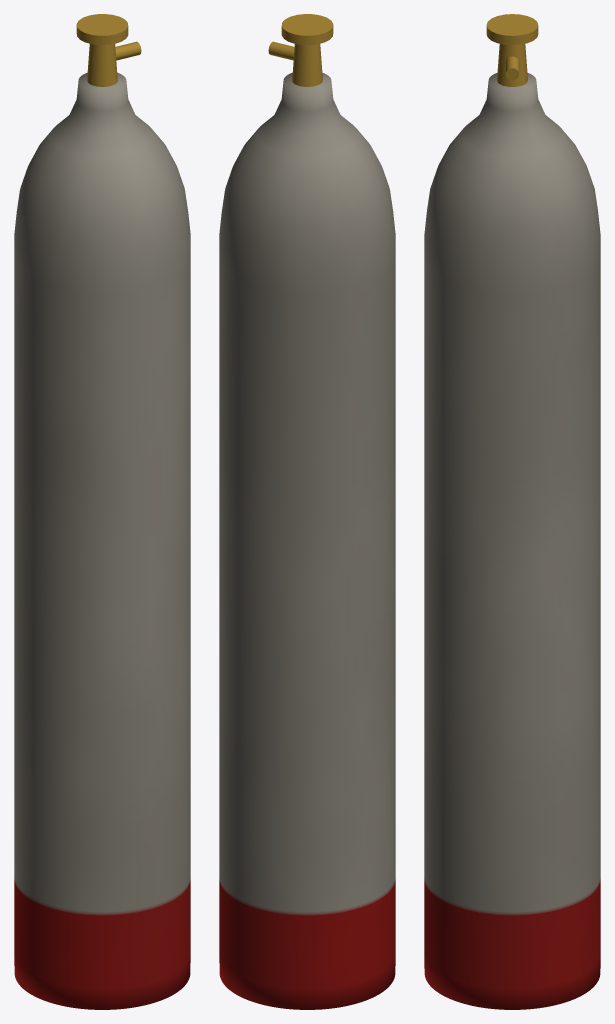
Rendered from gasCylinder_L2.glb.
The picture shows the model from 3 angles, left to right: view 1: azimuth 30°, elevation 25°; view 2: azimuth 150°, elevation 25°; view 3: azimuth 270°, elevation 25°; orthographic projection.
Parts seen in each view (by area): view 1: shell, handwheel, valve; view 2: shell, handwheel, valve; view 3: shell, handwheel, valve.
Part boxes in pixels (box(x1,y1,x2,y2)): shell: box(14, 72, 190, 1009); handwheel: box(76, 14, 128, 45); valve: box(87, 44, 117, 86); shell: box(219, 72, 395, 1009); handwheel: box(281, 14, 333, 45); valve: box(292, 44, 322, 86); shell: box(424, 72, 600, 1009); handwheel: box(486, 14, 538, 45); valve: box(497, 44, 527, 86).
Bounding box in the file's own units: 0.204 × 1.22 × 0.204.
2 materials, 1 textured.
